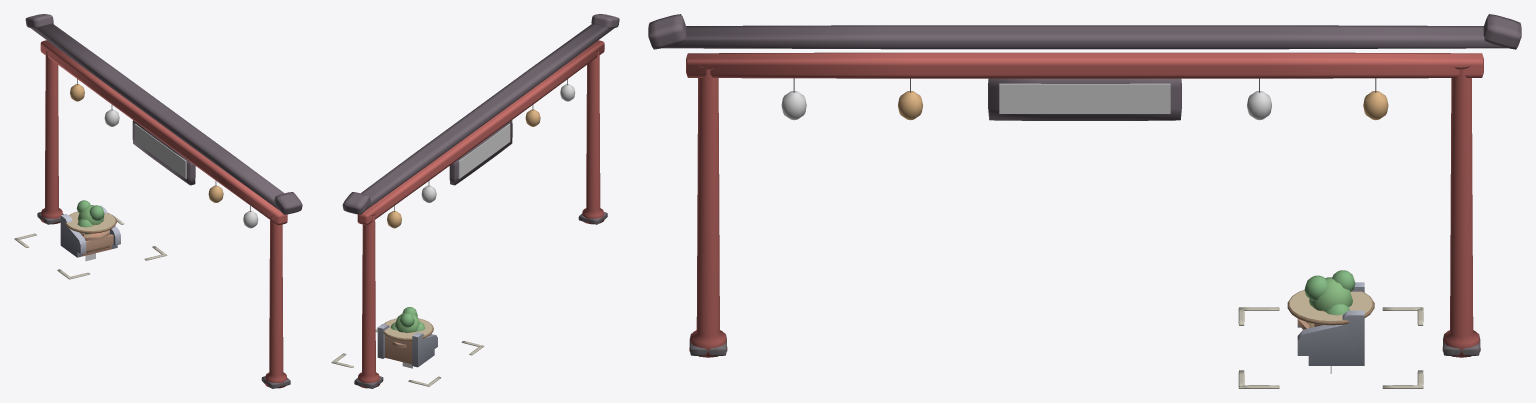
The model's file is props.glb.
3 renders of one model, left to right at view 1: azimuth 30°, elevation 25°; view 2: azimuth 150°, elevation 25°; view 3: azimuth 270°, elevation 25°, orthographic. The views are drawn at different scales.
Visible parts, largest first — view 1: gate, gate_glow, display_bread, planter, table, plot; view 2: gate, gate_glow, display_bread, planter, table, plot; view 3: gate, gate_glow, display_bread, planter, table, plot.
Boxes of the visible parts, x1=… form: gate: x1=25, y1=14, x2=302, y2=388; gate_glow: x1=70, y1=79, x2=258, y2=228; display_bread: x1=60, y1=205, x2=120, y2=257; planter: x1=76, y1=200, x2=104, y2=236; table: x1=65, y1=211, x2=116, y2=233; plot: x1=14, y1=215, x2=167, y2=279; gate: x1=342, y1=14, x2=619, y2=388; gate_glow: x1=387, y1=79, x2=575, y2=228; display_bread: x1=377, y1=324, x2=437, y2=367; planter: x1=390, y1=307, x2=425, y2=332; table: x1=383, y1=318, x2=433, y2=340; plot: x1=331, y1=322, x2=484, y2=386; gate: x1=648, y1=14, x2=1521, y2=357; gate_glow: x1=781, y1=78, x2=1388, y2=120; display_bread: x1=1297, y1=282, x2=1364, y2=365; planter: x1=1304, y1=270, x2=1355, y2=324; table: x1=1287, y1=290, x2=1374, y2=325; plot: x1=1238, y1=307, x2=1423, y2=388.
Bounding box in the file's own units: 2.55 × 5.17 × 11.71.
